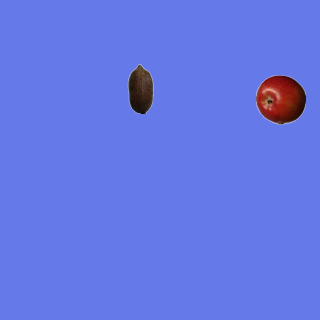Apple Braeburn: (255, 74, 305, 124)
Nut Pecan: (115, 63, 165, 113)
